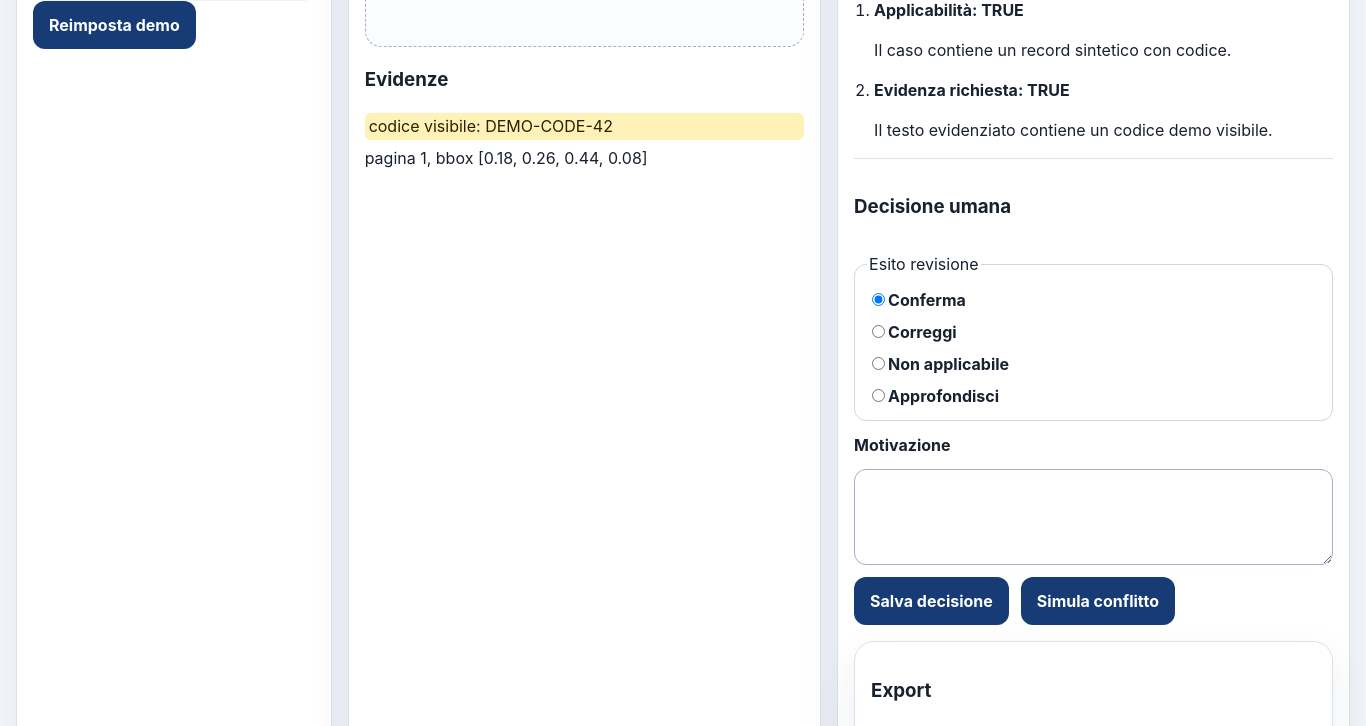
Scenario: AuditDesk › requires rationale for critical not-applicable overrides
(page scrolled)
Step 1. Click the radio button labelled "Non applicabile" → (879, 364), box [872, 357, 885, 370]
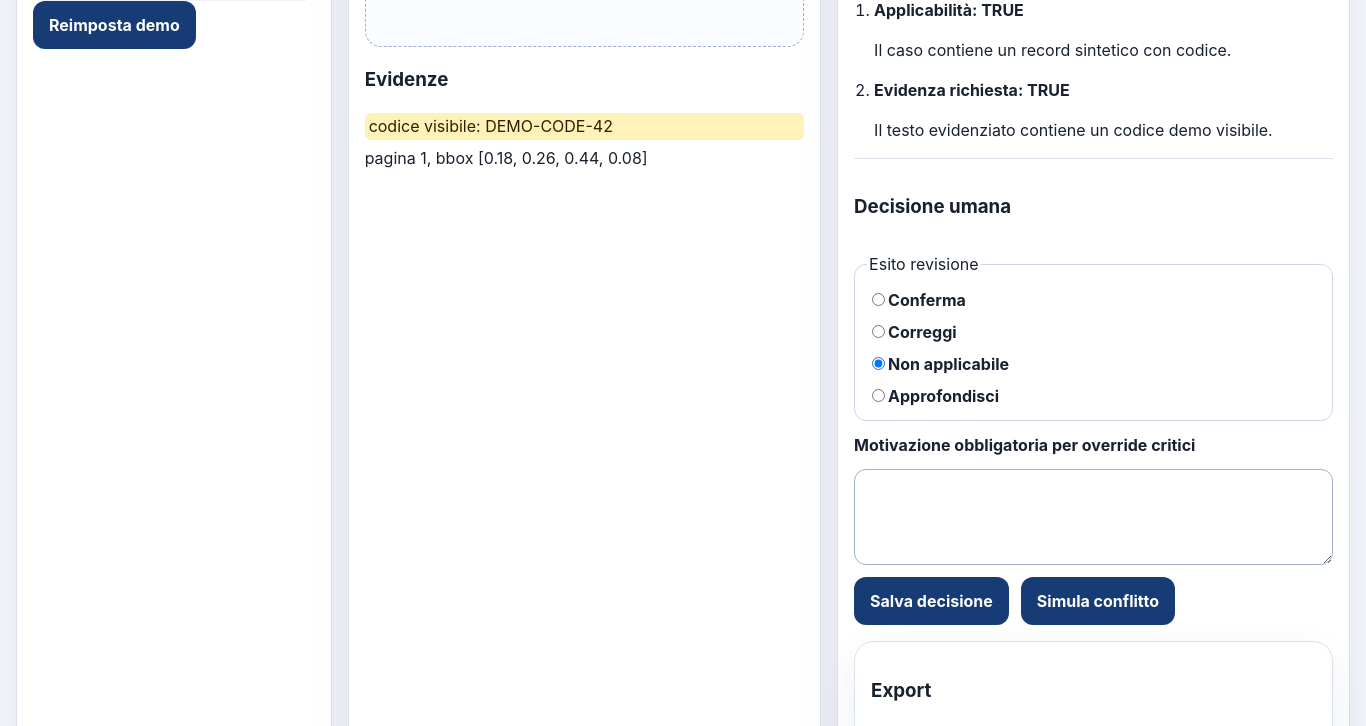
Step 2. Click the button "Salva decisione" → (932, 601), box [854, 577, 1009, 625]
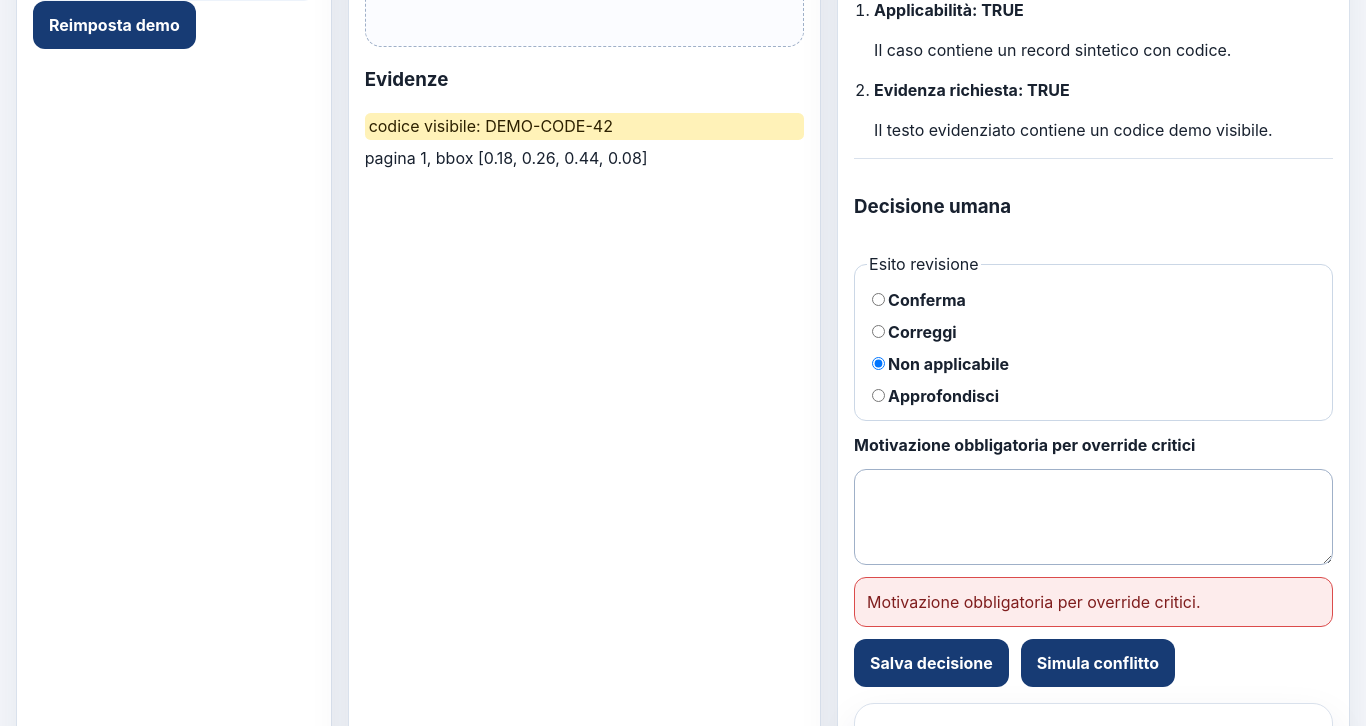
expect the message shows "Motivazione obbligatoria": met, box [867, 592, 1200, 612]
